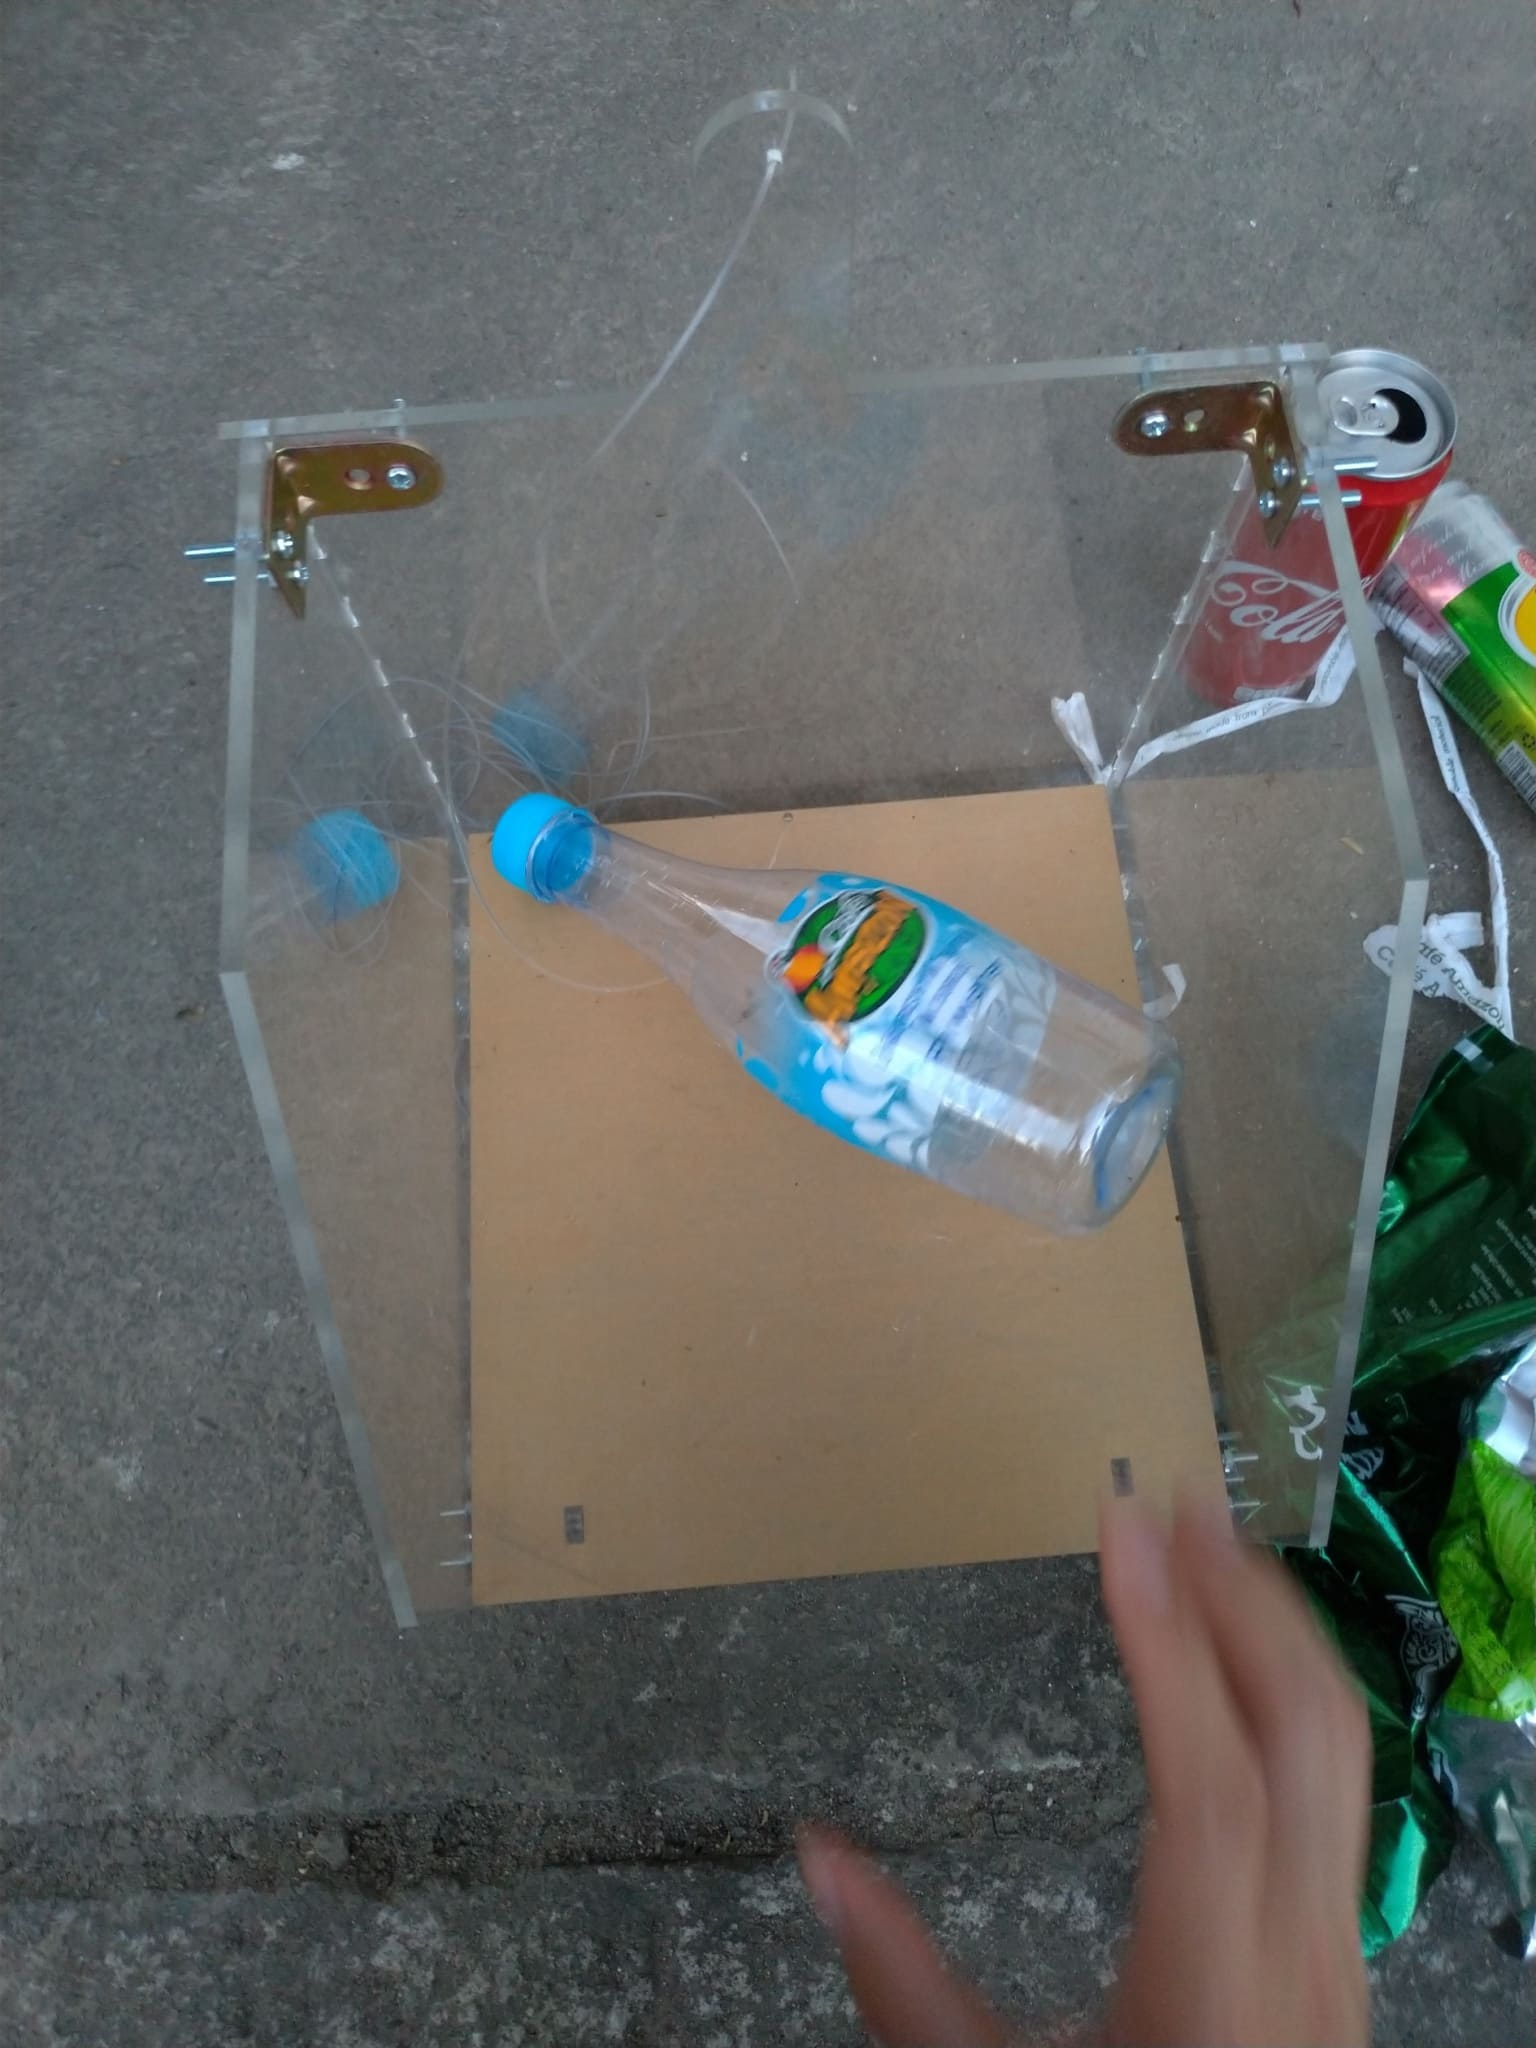AlCan: (1191, 339, 1454, 690), (1371, 471, 1536, 801)
Others: (1221, 1045, 1536, 1951), (1359, 658, 1530, 1042), (1425, 1342, 1536, 1921), (1037, 619, 1375, 790)
PlasticBottle: (490, 790, 1175, 1213)
